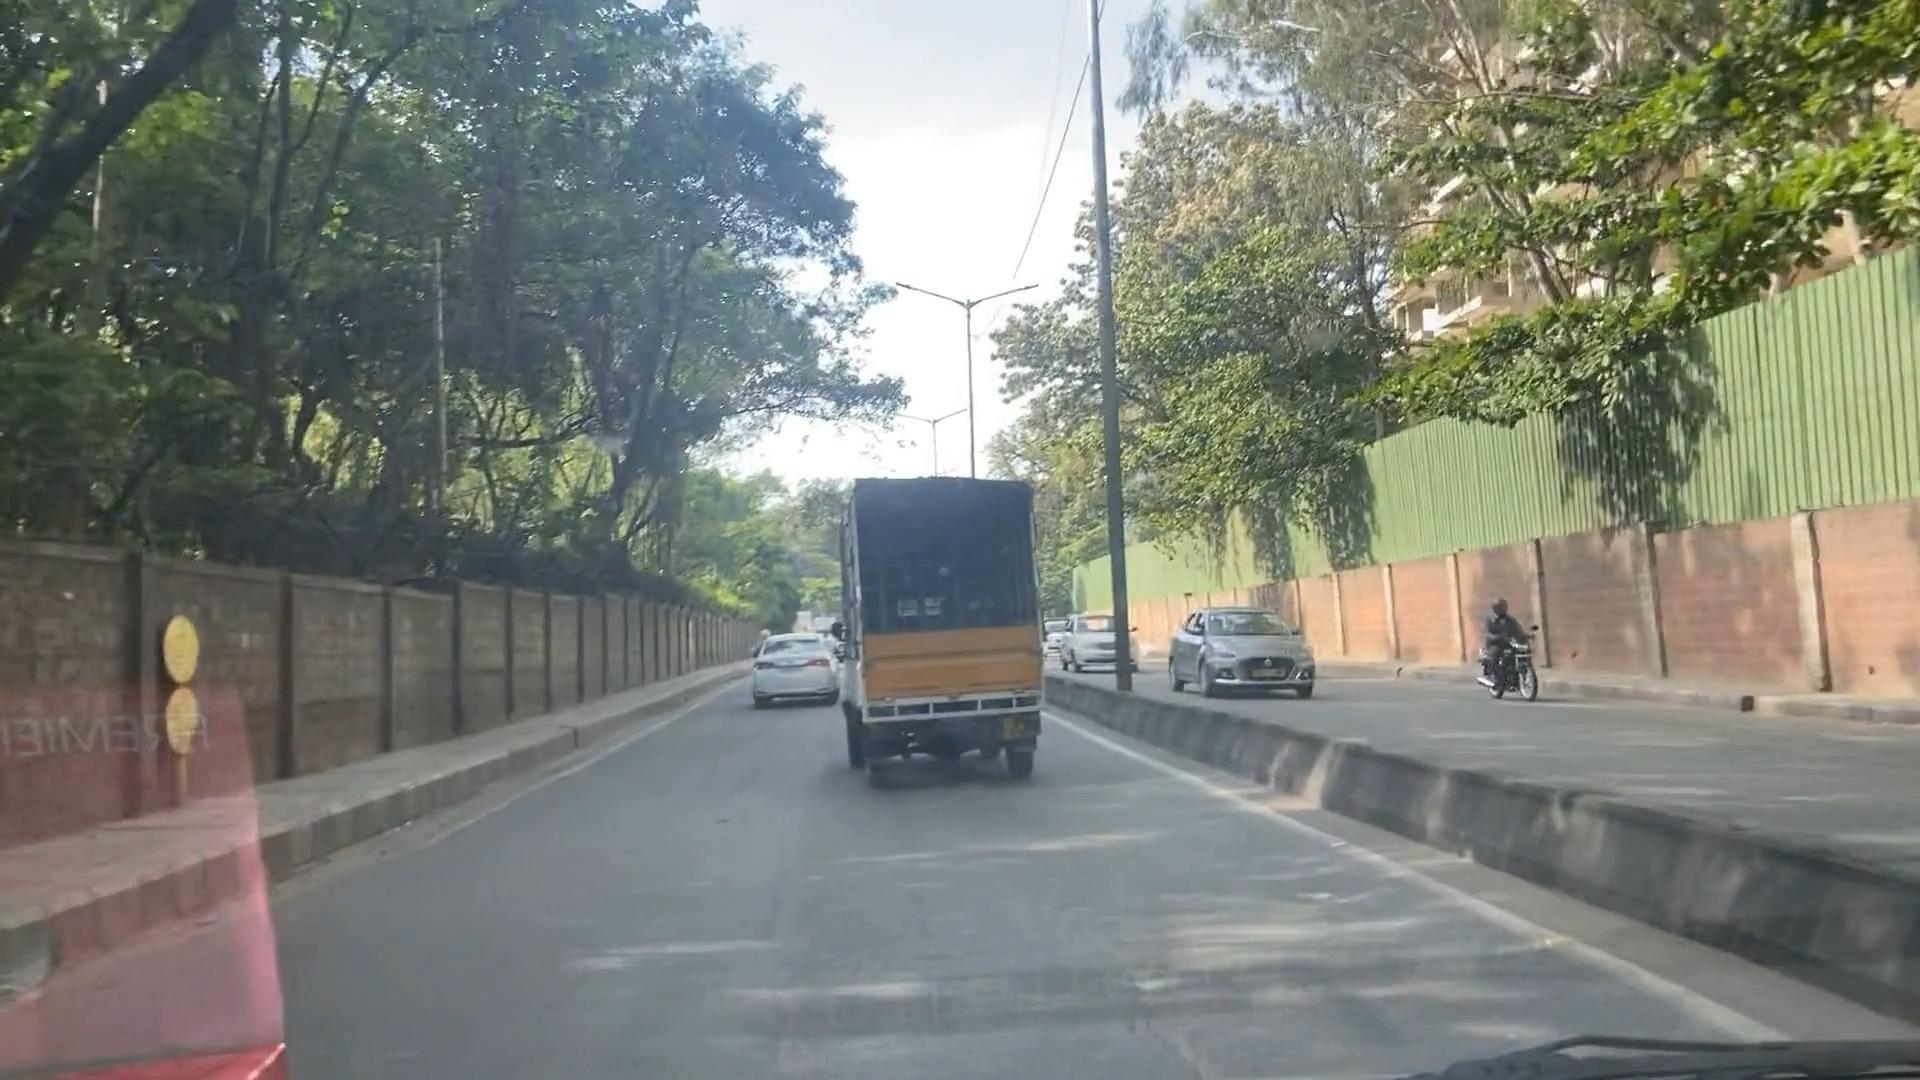HMV: (818, 455, 1068, 803)
